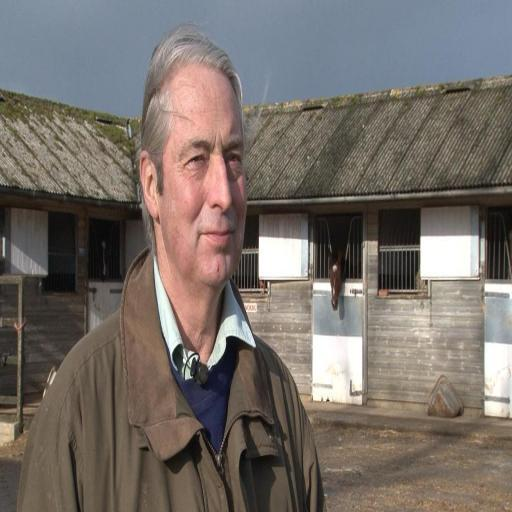horse: (329, 248, 344, 313)
